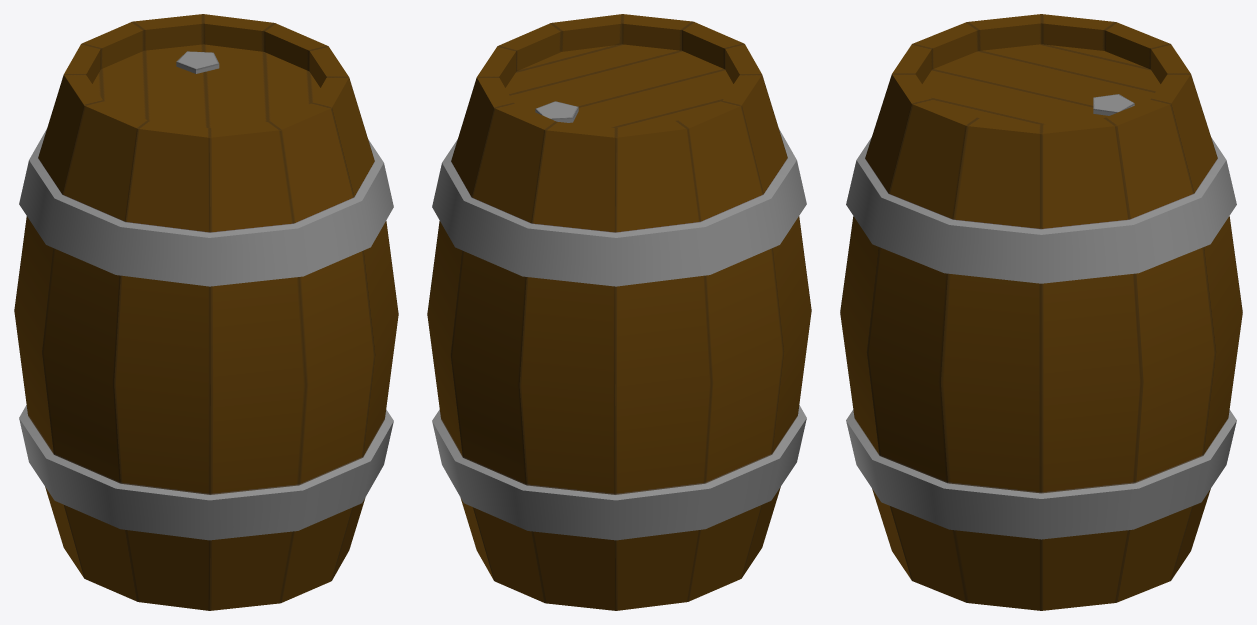
The model's file is Barrel.fbx.
The picture shows the model from 3 angles, left to right: view 1: azimuth 30°, elevation 25°; view 2: azimuth 150°, elevation 25°; view 3: azimuth 270°, elevation 25°; orthographic projection.
Visible parts, largest first — view 1: Barrel; view 2: Barrel; view 3: Barrel.
Boxes of the visible parts, x1,y1,x2,y2 form: Barrel: [14, 14, 398, 610]; Barrel: [427, 14, 811, 610]; Barrel: [840, 14, 1242, 610].
Size of the model in its own units: 66.54 by 91.57 by 70.08.
